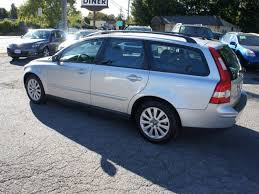car: (22, 31, 249, 139)
